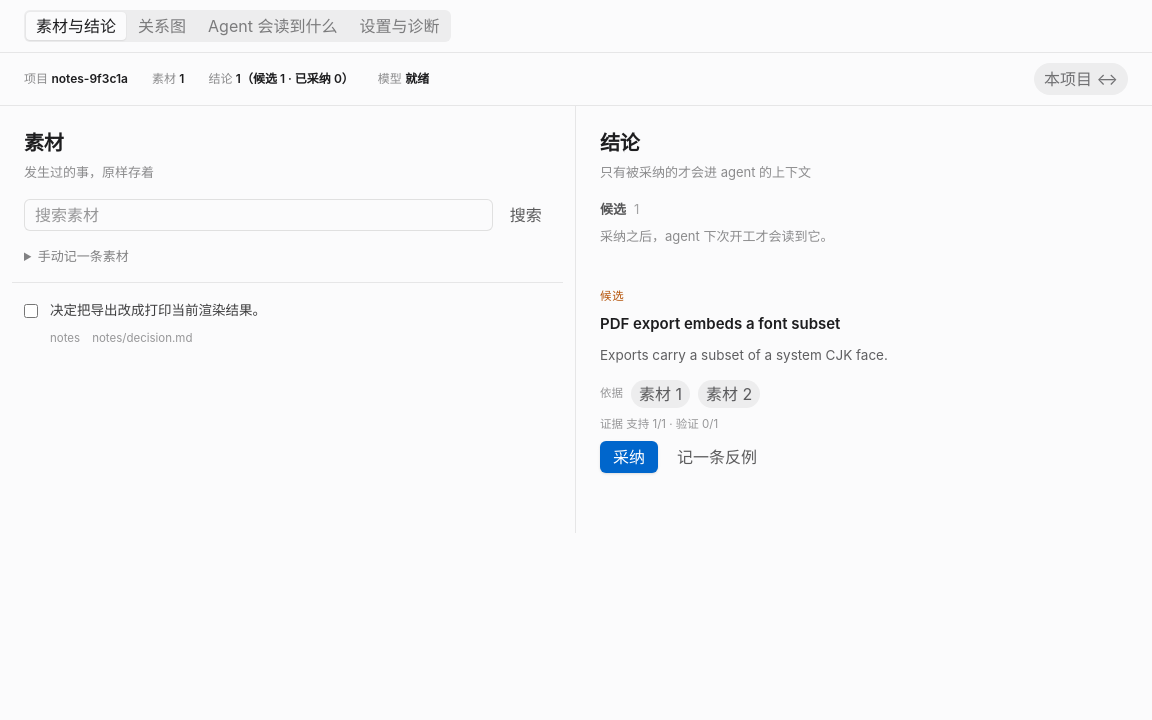
Test case: MemoryPanel › shows what a conclusion stands on, and opens one of them
Click the button "素材 1". click: (660, 394)
box: x1=631 y1=380 x2=690 y2=408
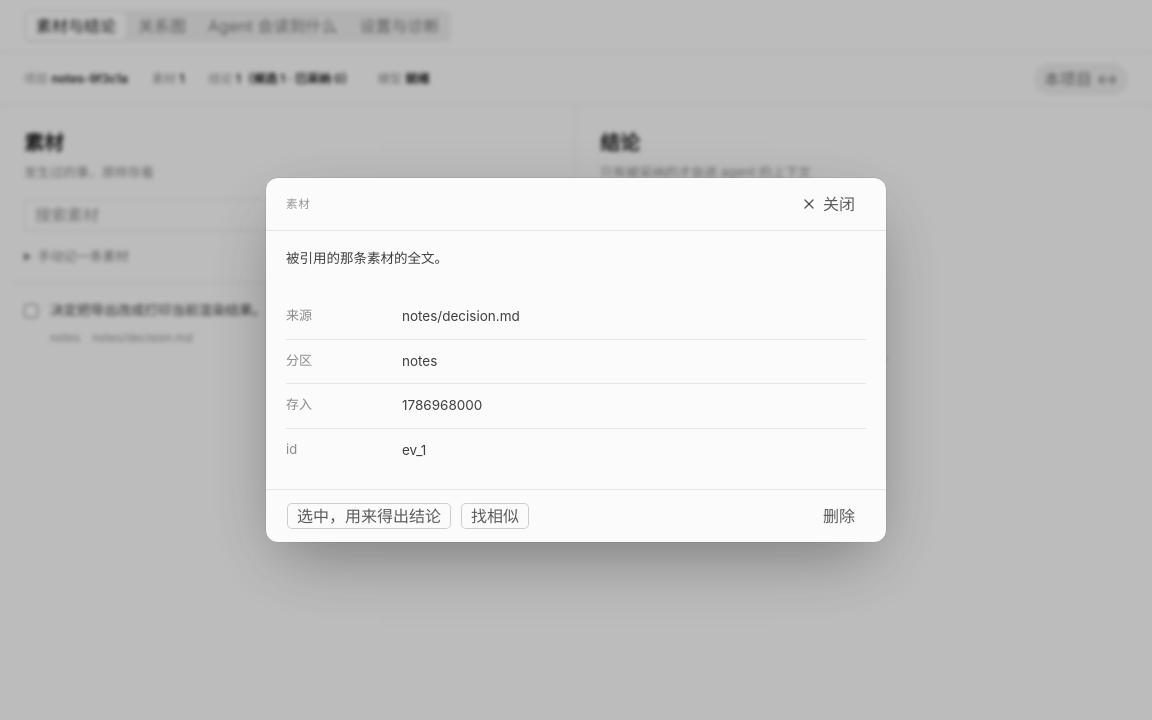
Now the text "被引用的那条素材的全文。" is shown, box x1=286 y1=250 x2=448 y2=266
